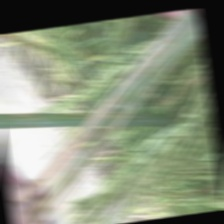Leaf_Blast: (12, 105, 115, 183)
